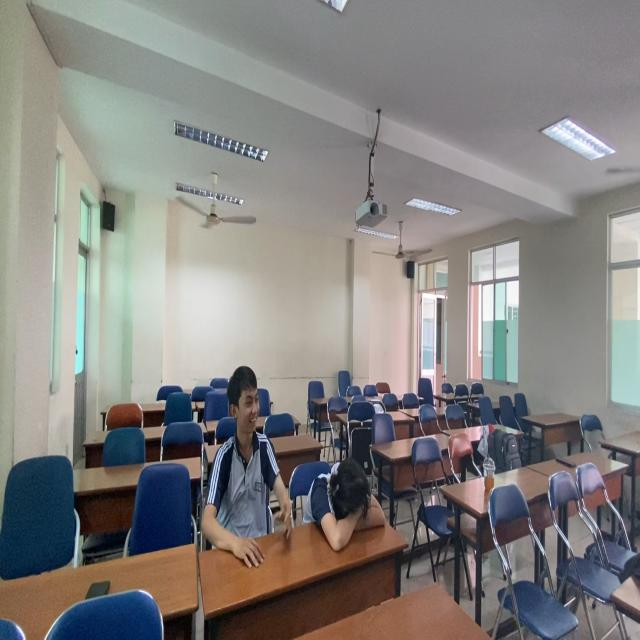sleep: (302, 457, 397, 555)
